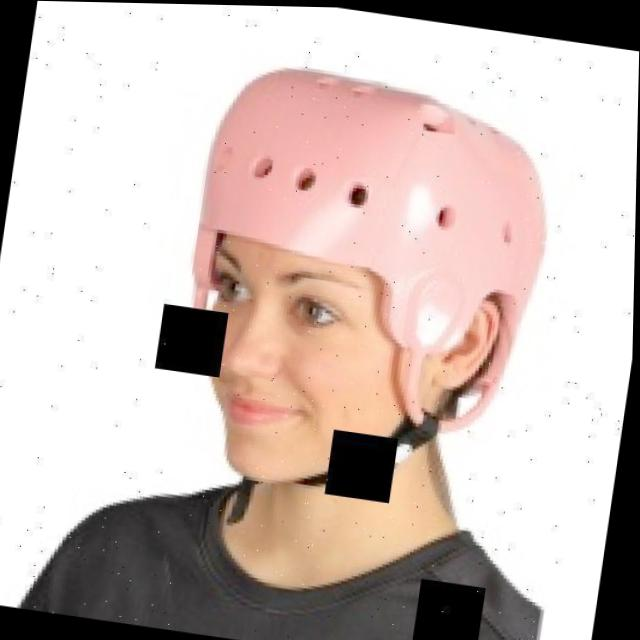helmet: (159, 54, 567, 517)
